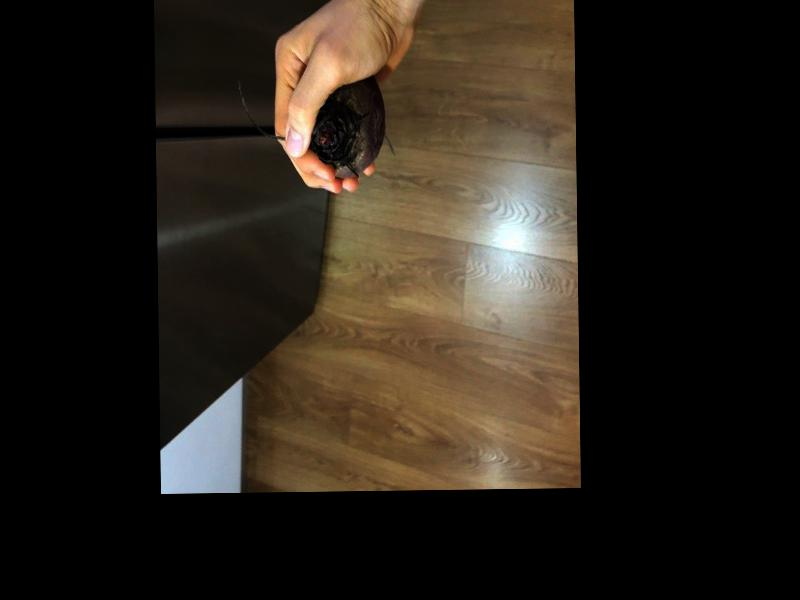Beet: (237, 75, 385, 180)
